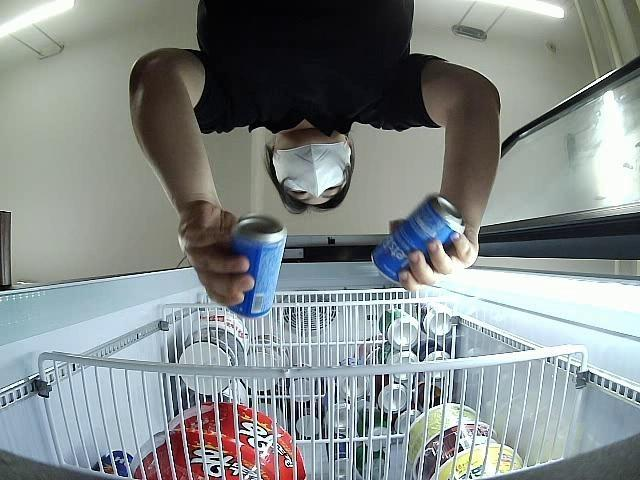15_letsbe: (369, 194, 467, 284), (228, 214, 286, 318)
